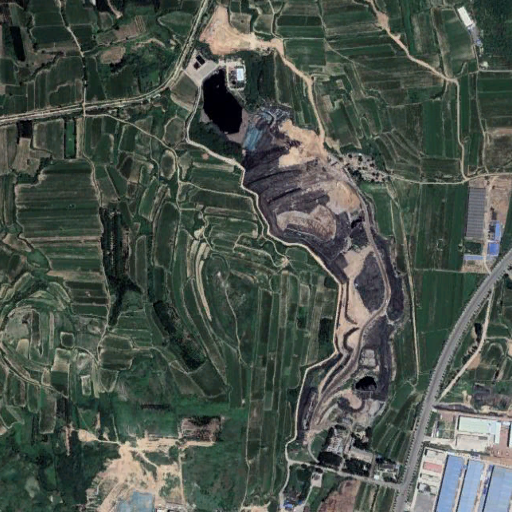lf: (187, 50, 406, 436)
